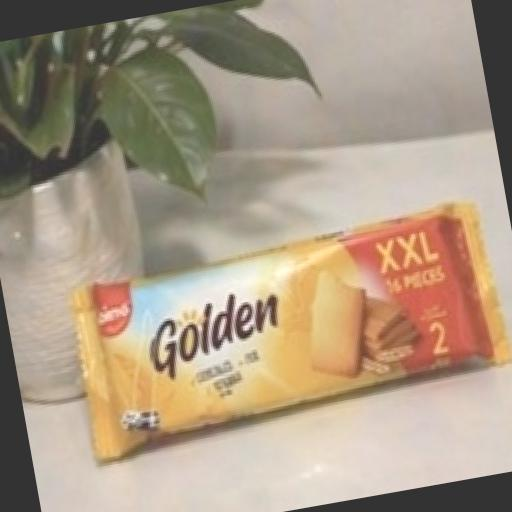golden: (35, 122, 512, 507)
